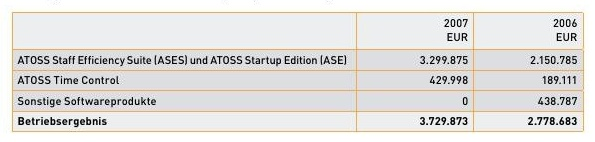table: (0, 0, 595, 142)
